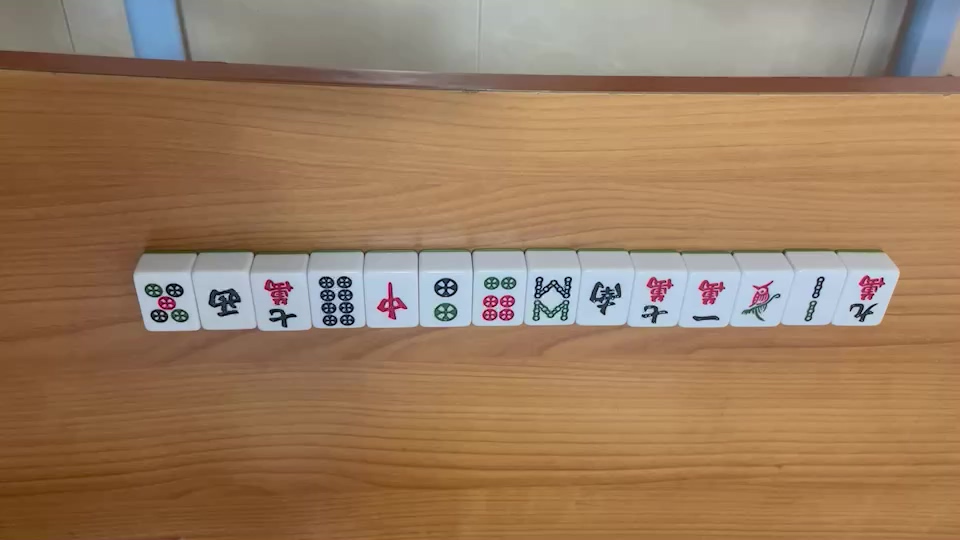b-1: (740, 278, 782, 321)
b-2: (799, 274, 830, 323)
b-8: (530, 274, 572, 323)
c-1: (691, 279, 725, 323)
c-7: (261, 276, 302, 329), (638, 274, 676, 325)
c-9: (847, 274, 887, 323)
d-2: (426, 277, 462, 324)
d-5: (143, 280, 191, 328)
d-6: (481, 275, 517, 322)
d-8: (312, 276, 358, 328)
honors-red: (369, 281, 409, 323)
honors-south: (584, 277, 623, 317)
honors-west: (204, 282, 246, 321)
